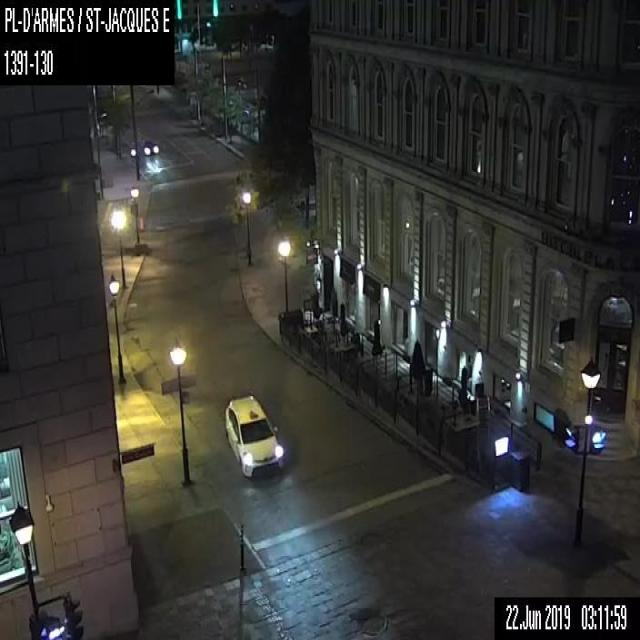vehicle: (222, 392, 284, 477), (143, 139, 160, 156)
